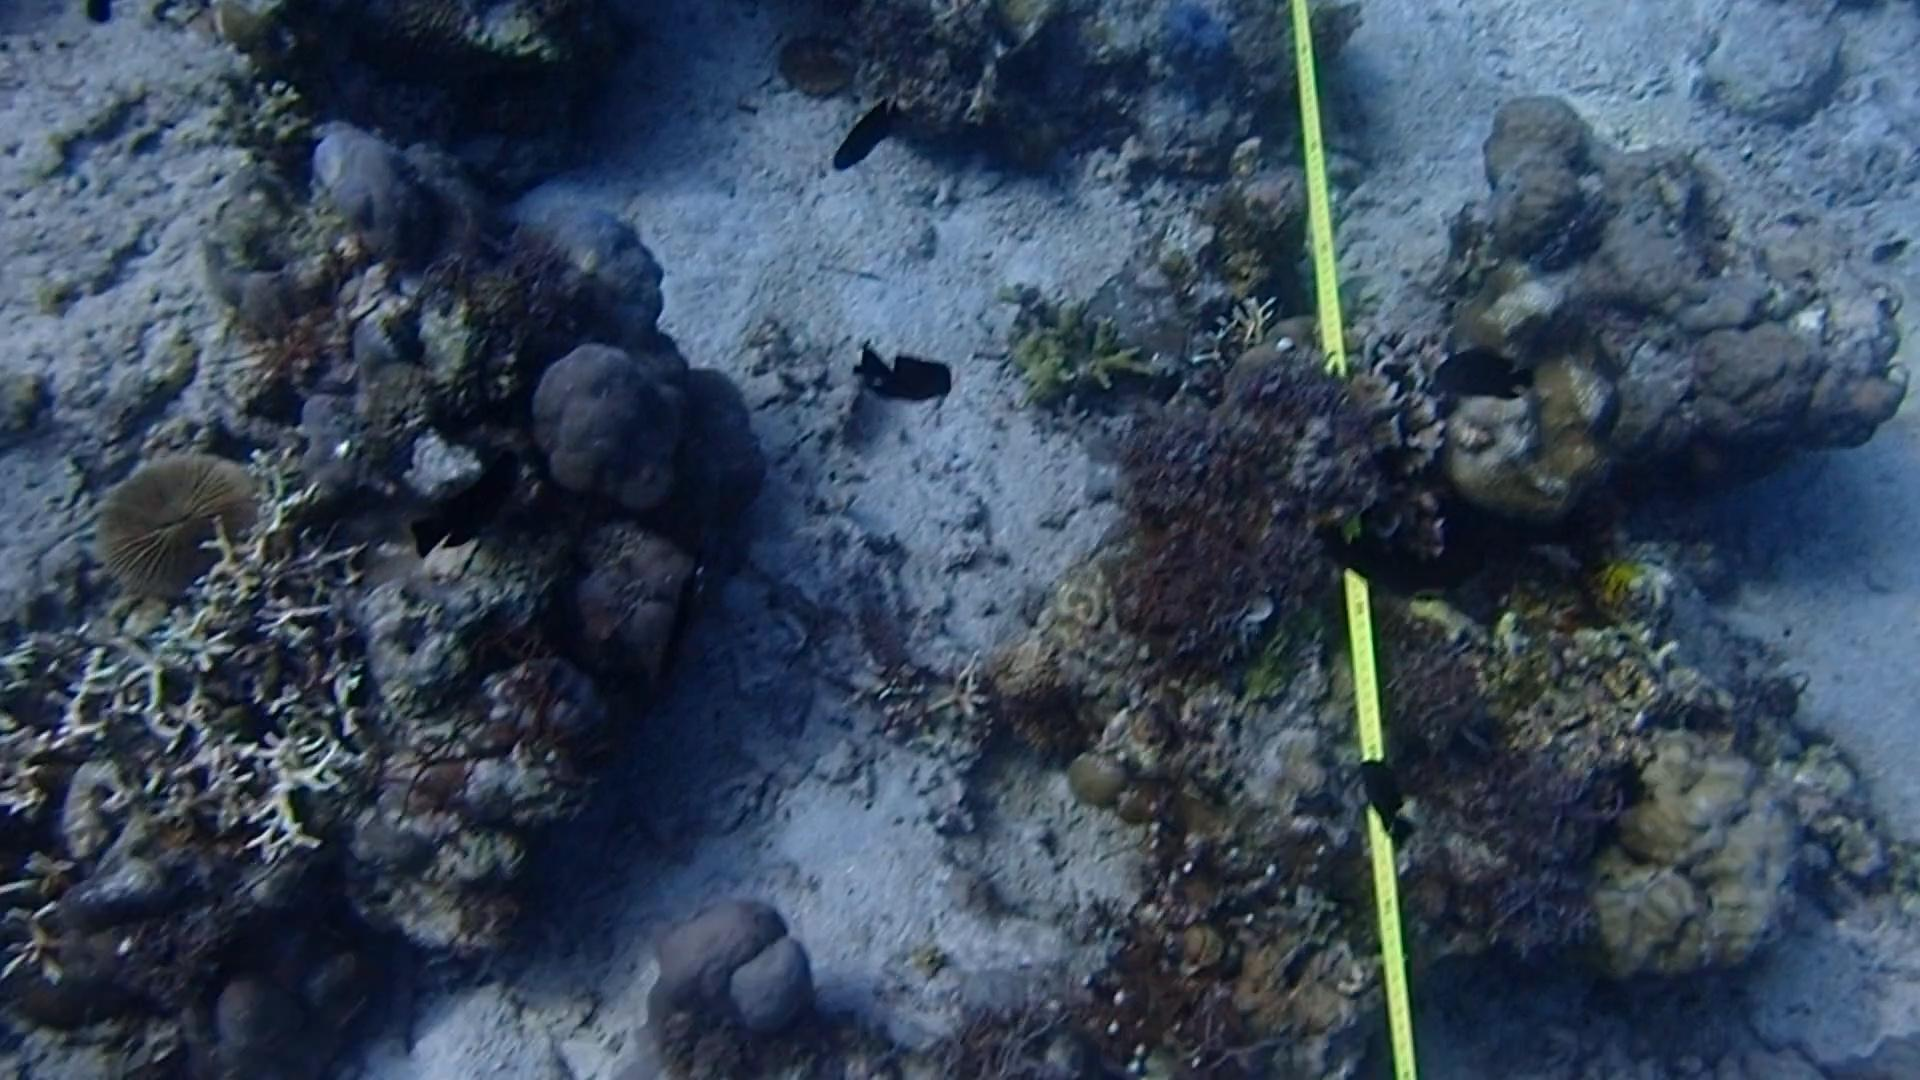Dark Fish: (1311, 508, 1460, 617), (415, 448, 535, 553), (840, 331, 957, 411), (1428, 331, 1535, 411), (1358, 742, 1427, 847), (818, 94, 895, 185), (658, 555, 705, 684)
